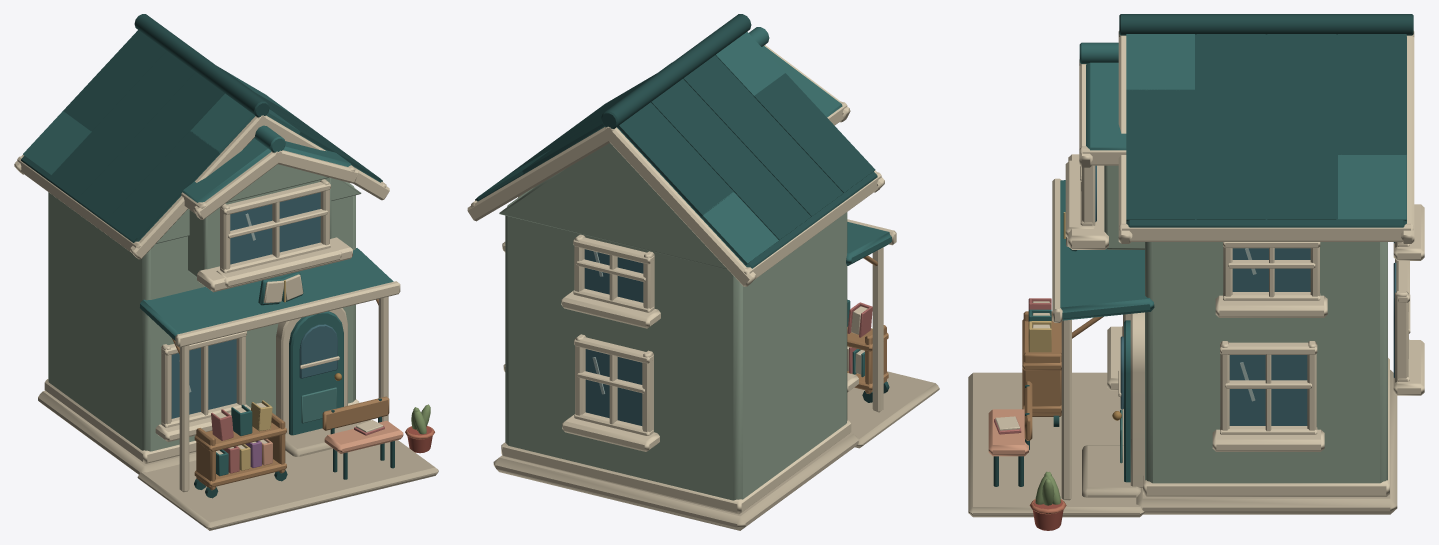
The model's file is bookshop_level_3.glb.
3 views of the same model, side by side, from view 1: azimuth 30°, elevation 25°; view 2: azimuth 150°, elevation 25°; view 3: azimuth 270°, elevation 25° (orthographic). The views are drawn at different scales.
Parts seen in each view (by area): view 1: bookshop_level_3_runtime; view 2: bookshop_level_3_runtime; view 3: bookshop_level_3_runtime.
Boxes of the visible parts, box(x1,y1,x2,y2) form: bookshop_level_3_runtime: box(14, 14, 438, 530); bookshop_level_3_runtime: box(467, 14, 939, 530); bookshop_level_3_runtime: box(968, 14, 1424, 530).
Size of the model in its own units: 3.66 by 4.63 by 4.4.
